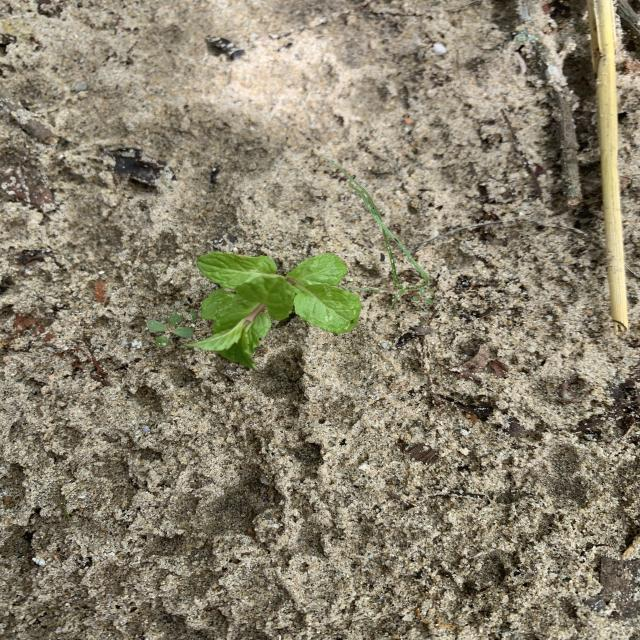crop: (188, 252, 361, 368)
weed: (343, 171, 434, 309), (146, 311, 198, 347)
